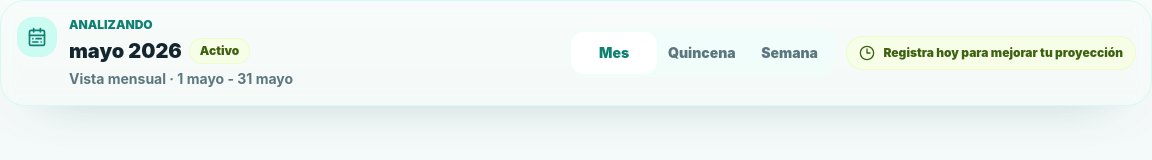
Test: FinancialPeriodControl › cambia visualmente entre Mes, Quincena y Semana
Click the button "Semana". click: click(790, 53)
box: [748, 33, 831, 73]
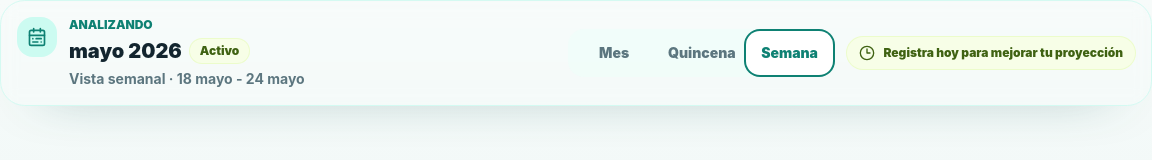
Now the text "Vista semanal · 18 mayo - 24 mayo" is shown, box [69, 69, 305, 89]
Click the button "Quincena". click: click(702, 53)
box: [660, 33, 744, 73]
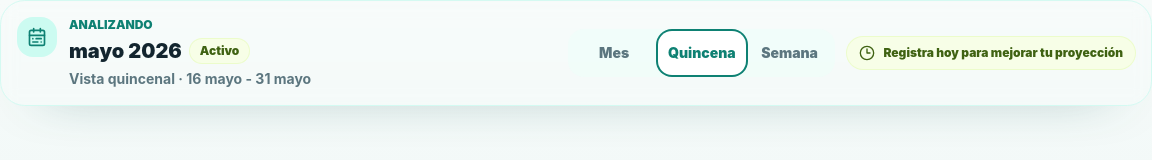
Now the text "Vista quincenal · 16 mayo - 31 mayo" is shown, box [69, 69, 311, 89]
